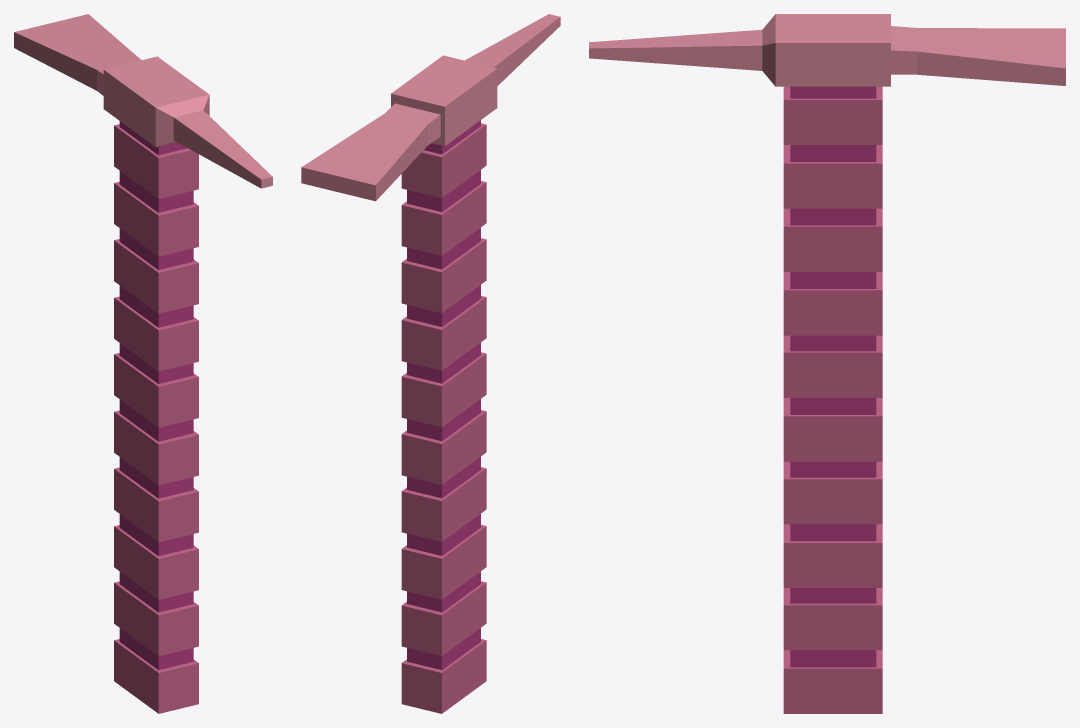
The model's file is ironPickaxe.glb.
3 views of the same model, side by side, from view 1: azimuth 30°, elevation 25°; view 2: azimuth 150°, elevation 25°; view 3: azimuth 270°, elevation 25° (orthographic). The views are drawn at different scales.
Parts seen in each view (by area): view 1: Cube.008, Cube.005, Cube.002, Cube.011, Cube.014, Cube.019, Cube.001, Cube.010, Cube.006, Cube.015, Cube.018, Cube (+9 smaller); view 2: Cube.008, Cube.002, Cube.006, Cube.011, Cube.014, Cube.015, Cube.001, Cube.005, Cube.010, Cube.019, Cube.018, Cube.007 (+8 smaller); view 3: Cube.008, Cube.005, Cube.002, Cube.001, Cube.006, Cube.010, Cube.015, Cube.019, Cube.011, Cube.014, Cube.018, Cube (+9 smaller).
Part boxes in pixels (bbox=[...]): Cube.008: bbox=[14, 14, 272, 188]; Cube.005: bbox=[114, 467, 198, 542]; Cube.002: bbox=[114, 581, 198, 656]; Cube.011: bbox=[114, 239, 198, 313]; Cube.014: bbox=[114, 353, 198, 427]; Cube.019: bbox=[114, 181, 198, 256]; Cube.001: bbox=[114, 639, 198, 713]; Cube.010: bbox=[114, 296, 198, 371]; Cube.006: bbox=[114, 525, 198, 599]; Cube.015: bbox=[114, 410, 198, 485]; Cube.018: bbox=[114, 124, 198, 198]; Cube: bbox=[119, 628, 193, 670]; Cube.008: bbox=[301, 14, 560, 201]; Cube.002: bbox=[401, 581, 486, 656]; Cube.006: bbox=[401, 524, 486, 599]; Cube.011: bbox=[401, 238, 486, 313]; Cube.014: bbox=[401, 352, 486, 427]; Cube.015: bbox=[401, 410, 486, 484]; Cube.001: bbox=[401, 639, 486, 713]; Cube.005: bbox=[401, 467, 486, 541]; Cube.010: bbox=[401, 296, 486, 370]; Cube.019: bbox=[401, 181, 486, 255]; Cube.018: bbox=[401, 123, 486, 198]; Cube.007: bbox=[407, 514, 480, 555]; Cube.008: bbox=[589, 14, 1065, 86]; Cube.005: bbox=[783, 461, 882, 524]; Cube.002: bbox=[783, 588, 882, 650]; Cube.001: bbox=[783, 650, 882, 713]; Cube.006: bbox=[783, 524, 882, 587]; Cube.010: bbox=[783, 272, 882, 335]; Cube.015: bbox=[783, 398, 882, 461]; Cube.019: bbox=[783, 145, 882, 208]; Cube.011: bbox=[783, 208, 882, 271]; Cube.014: bbox=[783, 335, 882, 397]; Cube.018: bbox=[783, 86, 882, 144]; Cube: bbox=[790, 650, 876, 667].
Size of the model in its own units: 1.32 by 10.39 by 6.66.
1 material, 1 textured.
